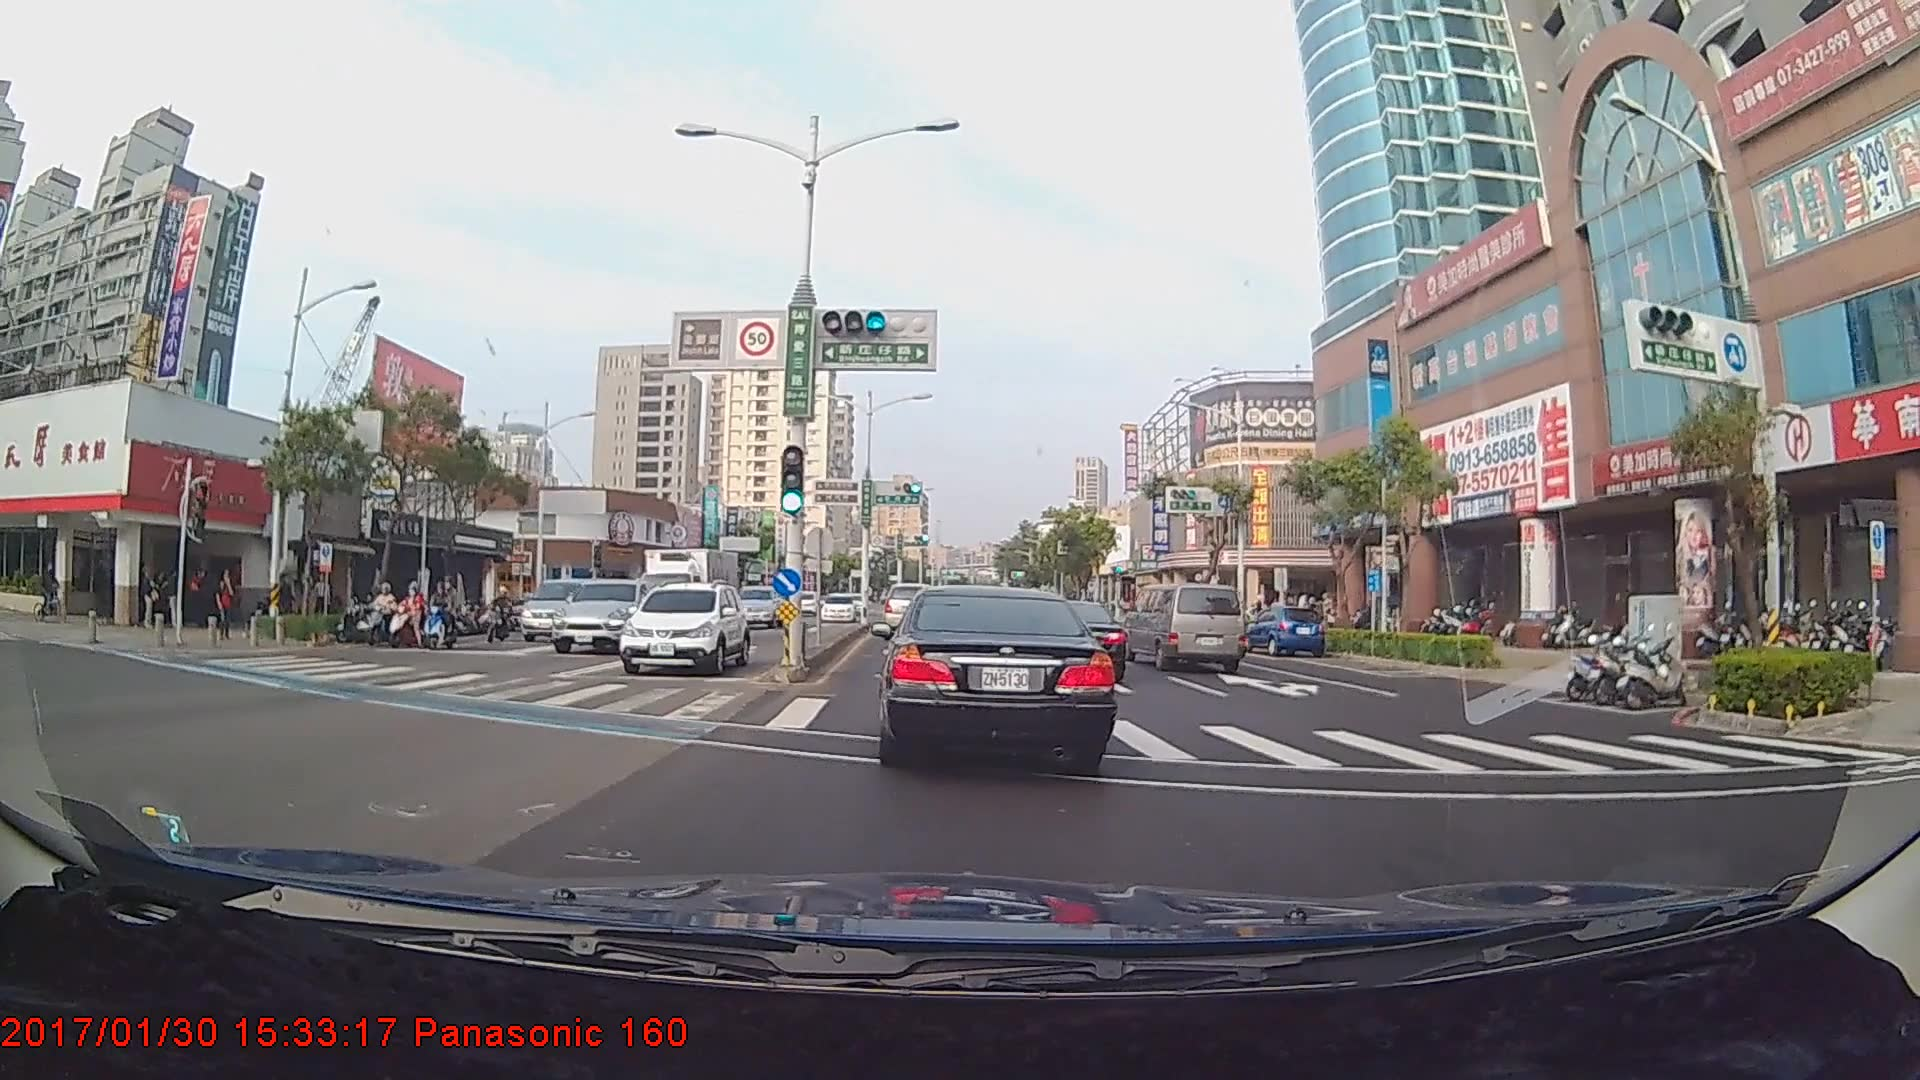pedestrian: (140, 560, 165, 630), (216, 569, 237, 639), (165, 568, 187, 628)
rider: (417, 576, 469, 649), (383, 579, 437, 649), (352, 581, 402, 650), (25, 561, 66, 620)
vehicle: (872, 580, 1112, 765), (619, 580, 748, 673), (625, 544, 743, 645), (1128, 582, 1247, 673), (1021, 597, 1122, 679), (550, 577, 650, 653), (519, 578, 600, 643), (1245, 604, 1326, 658), (876, 580, 937, 641), (731, 582, 785, 631), (821, 590, 854, 621)
